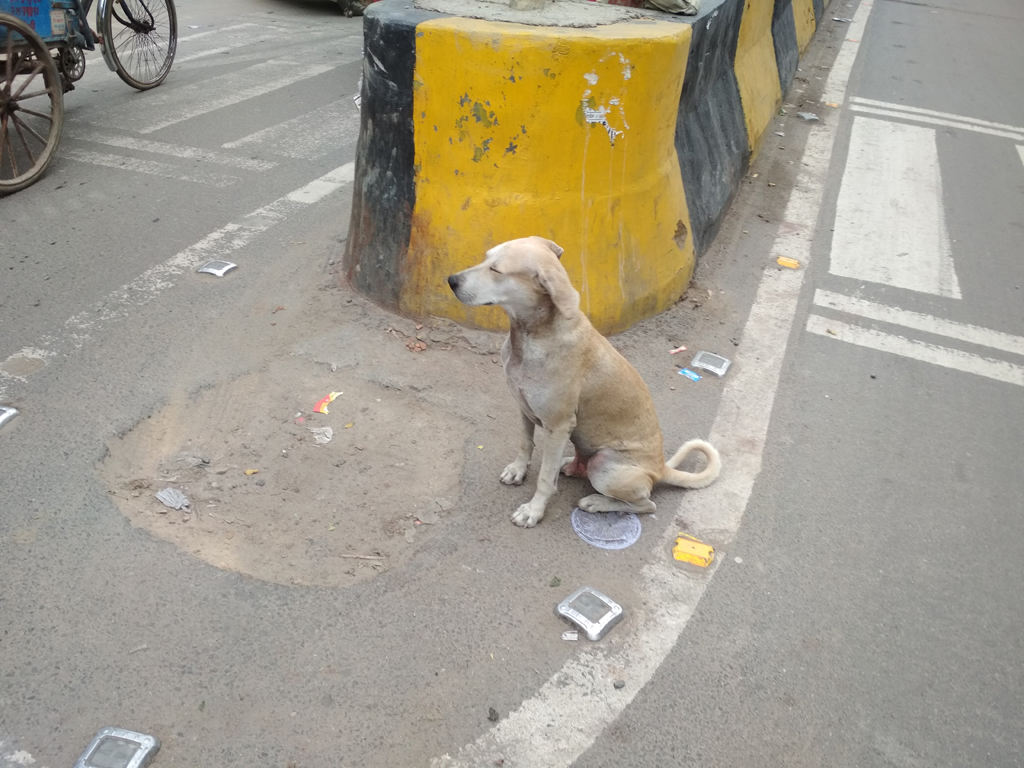dog: (447, 234, 721, 527)
